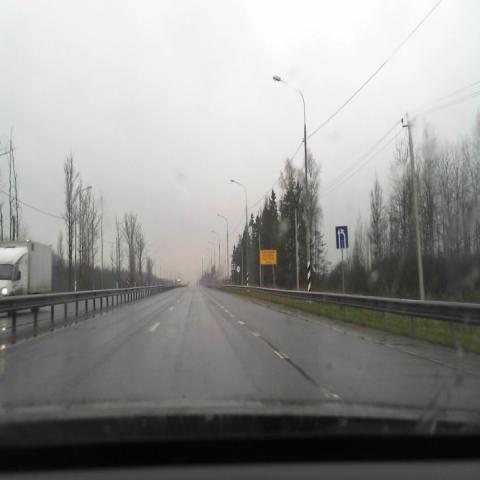5_15_5: (336, 226, 348, 249)
